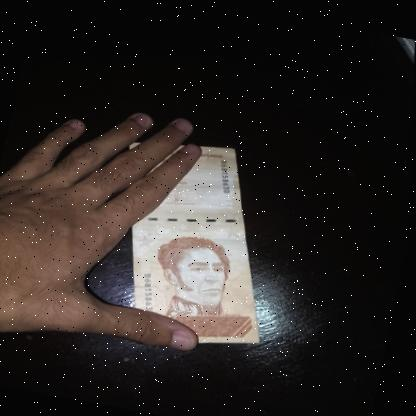vef_front: (93, 126, 298, 356)
